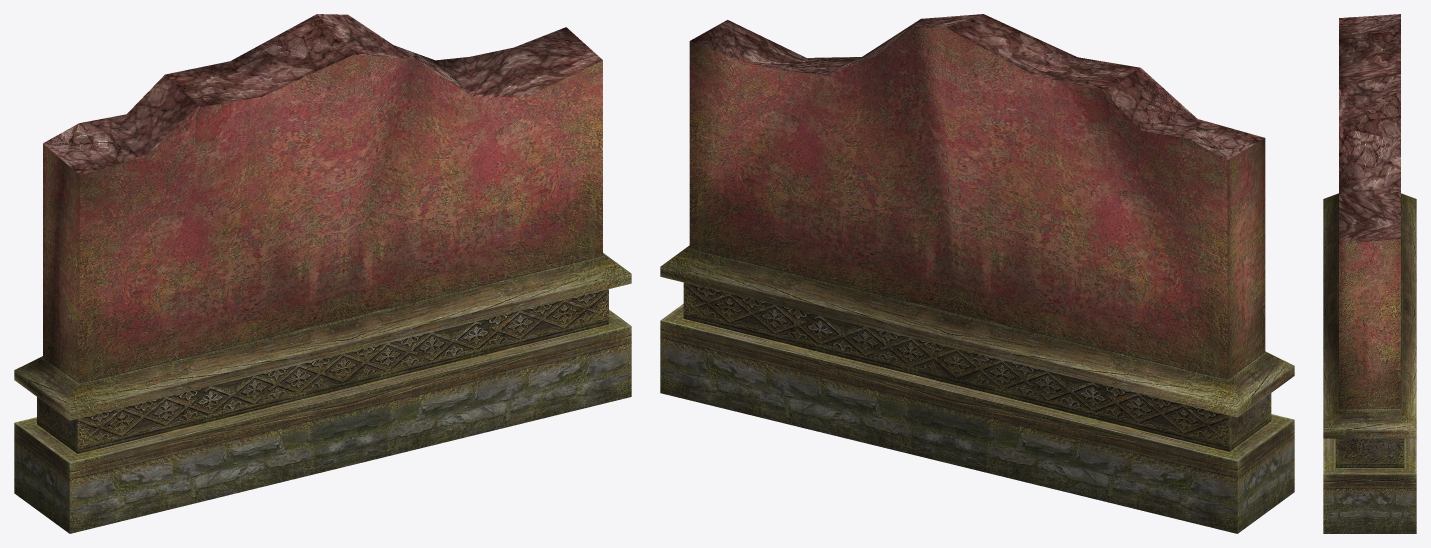
The model's file is fortressa_wall_a_01.glb.
3 renders of one model, left to right at view 1: azimuth 30°, elevation 25°; view 2: azimuth 150°, elevation 25°; view 3: azimuth 270°, elevation 25°, orthographic. The views are drawn at different scales.
Visible parts, largest first — view 1: fortressA_wall_A_01; view 2: fortressA_wall_A_01; view 3: fortressA_wall_A_01.
Part boxes in pixels (left/top/right/bottom): fortressA_wall_A_01: left=14, top=14, right=631, bottom=533; fortressA_wall_A_01: left=660, top=14, right=1294, bottom=533; fortressA_wall_A_01: left=1323, top=14, right=1416, bottom=533.
Size of the model in its own units: 13.79 by 9.72 by 2.36.
Materials: 2 (2 with a texture image).
